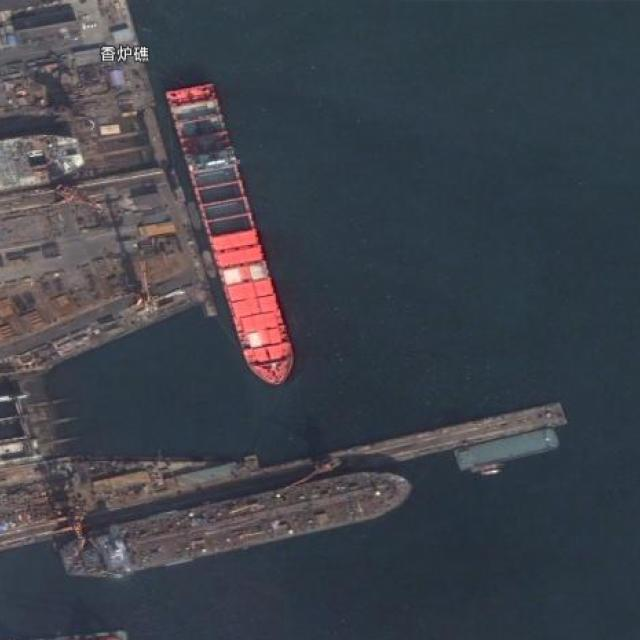Container Ship: (167, 79, 299, 390)
Oil Tanker: (58, 462, 416, 585)
